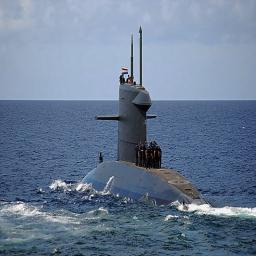submarine: (81, 29, 215, 213)
